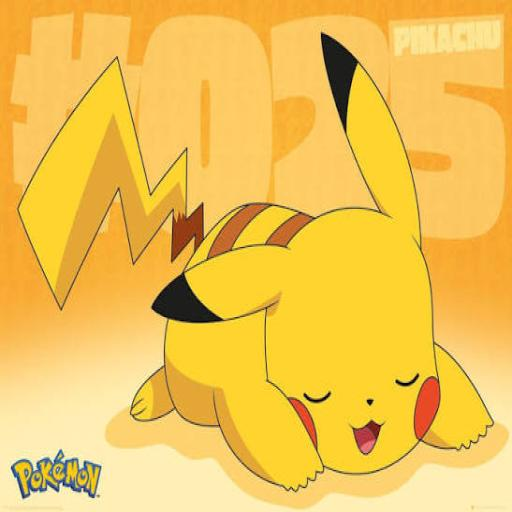Pikachu: (16, 32, 493, 493)
